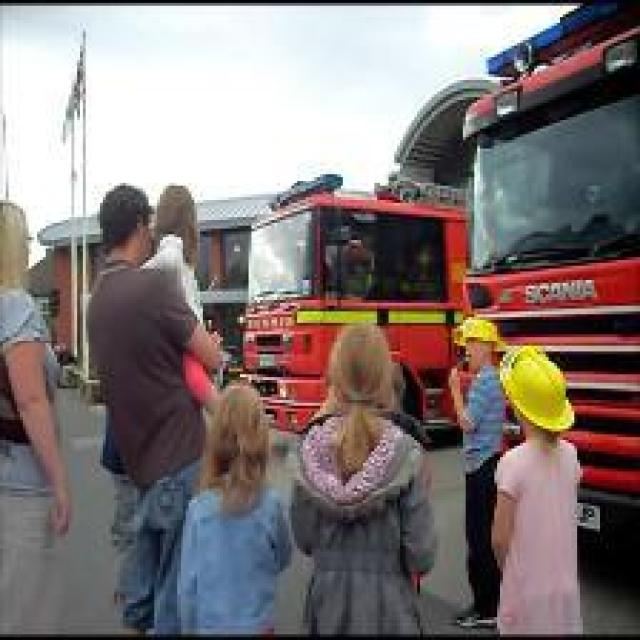other: (238, 292, 456, 358), (457, 314, 568, 426)
